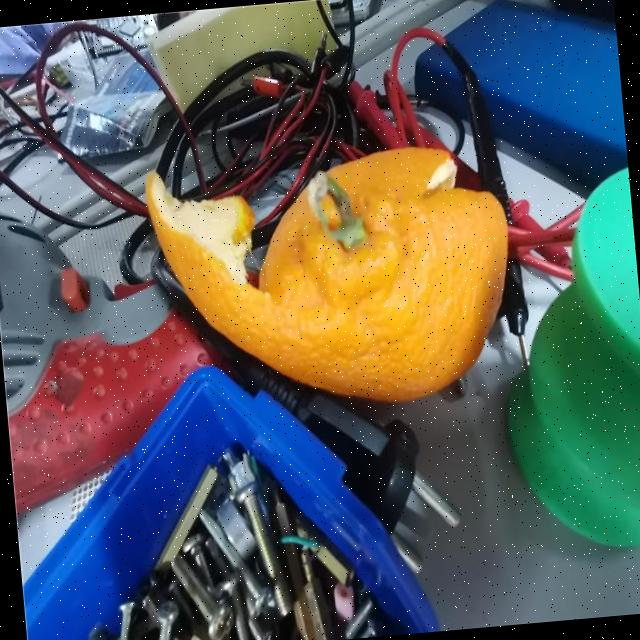orange-peel: (141, 135, 523, 423)
